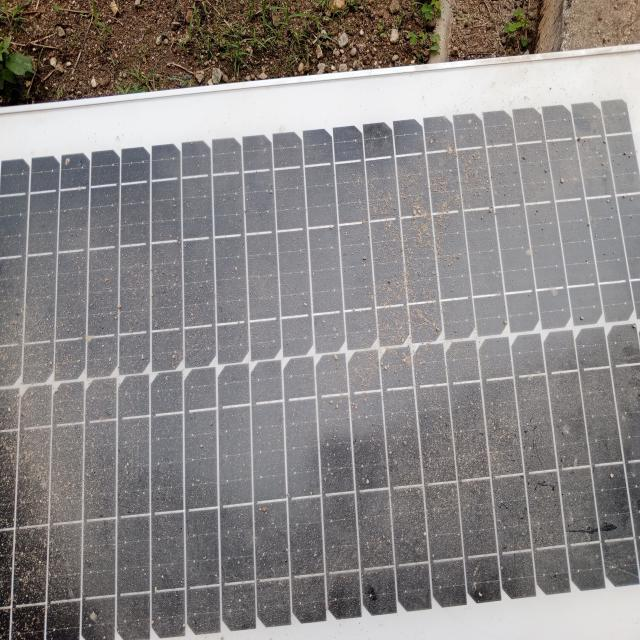Anomaly Solar Panel: (0, 118, 640, 630)
Surface Contaminant: (12, 133, 639, 605)
